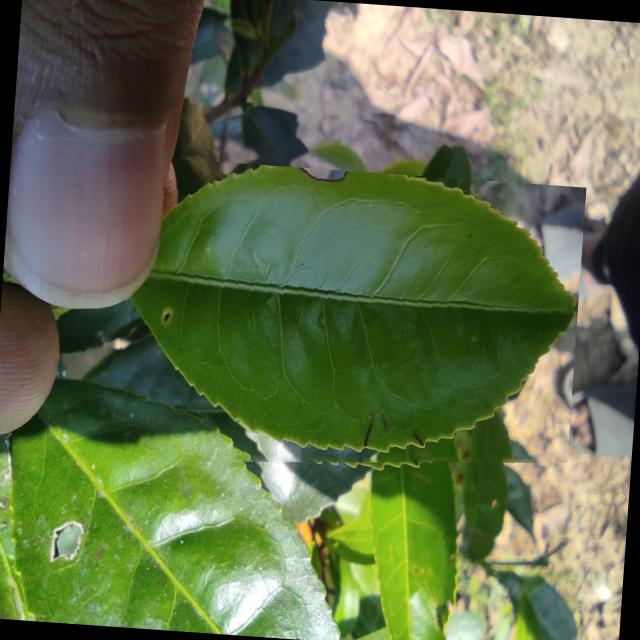Category C 4-7 days: (111, 154, 586, 492)
